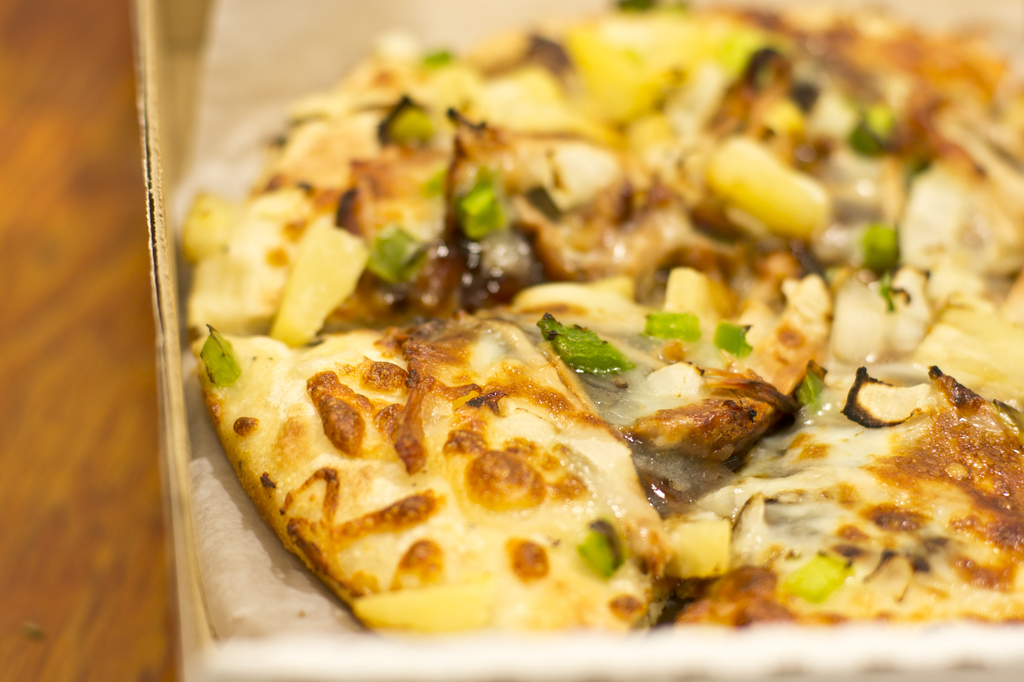Pizza: (178, 0, 1023, 631)
